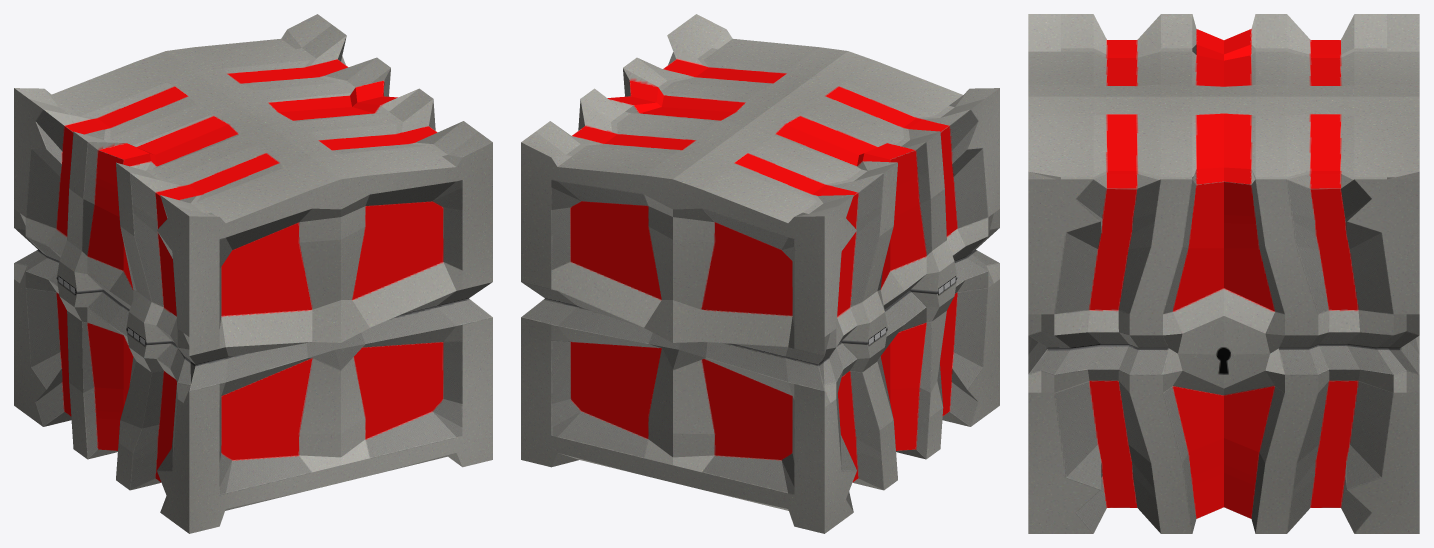
Rendered from treasure_chest.fbx.
3 renders of one model, left to right at view 1: azimuth 30°, elevation 25°; view 2: azimuth 150°, elevation 25°; view 3: azimuth 270°, elevation 25°, orthographic. The views are drawn at different scales.
Visible parts, largest first — view 1: my_cube_f:Mesh; view 2: my_cube_f:Mesh; view 3: my_cube_f:Mesh.
Part boxes in pixels (x1,y1,x2,y2): my_cube_f:Mesh: [14, 14, 492, 533]; my_cube_f:Mesh: [521, 14, 999, 533]; my_cube_f:Mesh: [1028, 14, 1419, 533].
Bounding box in the file's own units: 2 × 2 × 2.
